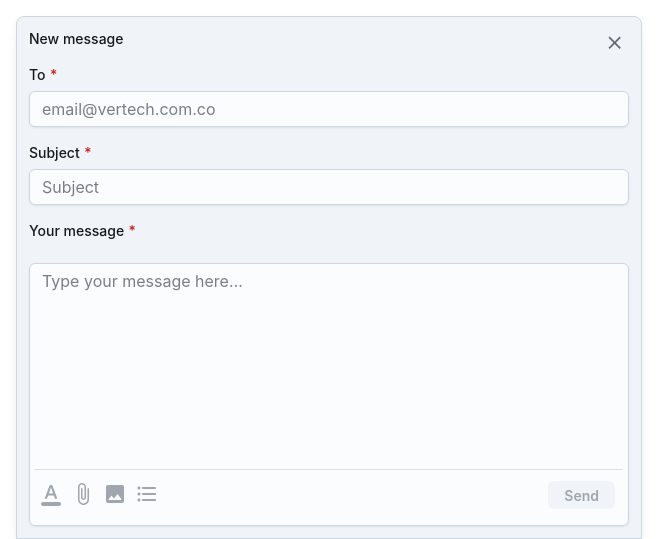
Scenario: WriteEmail Component › should enable send button when form is filled
In the field with placeholder "email@vertech.com.co": point(329, 109) [42,92,616,126], type "test@example.com"
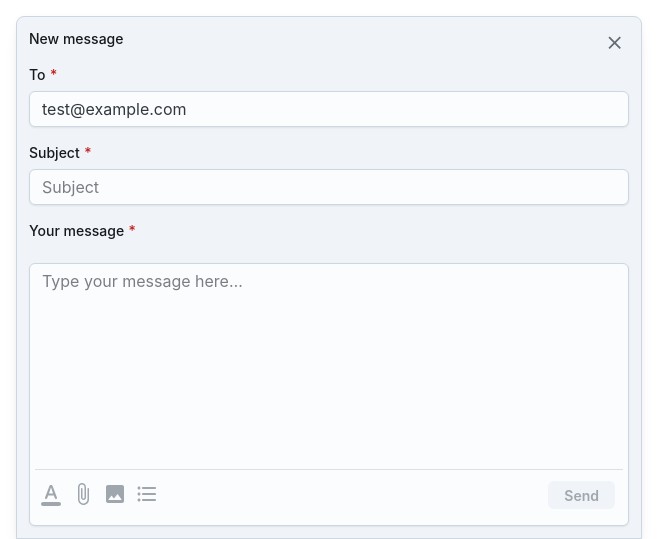
In the field with placeholder "Subject": point(329, 187) [42,170,616,204], type "Test Subject"
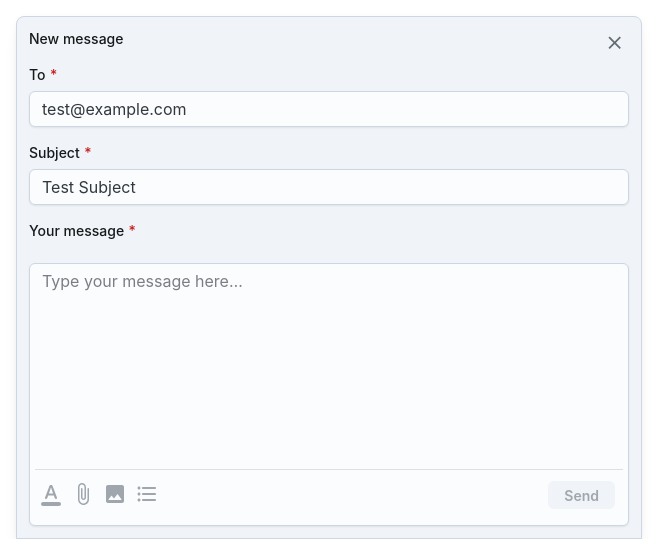
In the text box with placeholder "Type your message here…": point(335, 365) [42,269,628,461], type "Test Message"
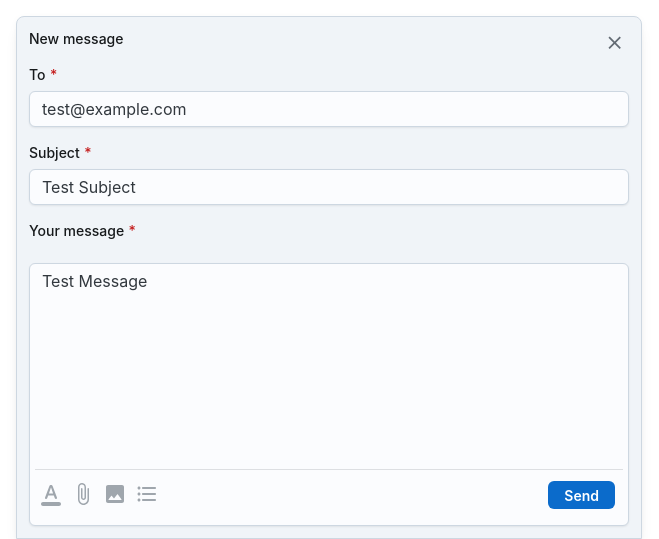
Check: the button "Send" is enabled, box [548,481,615,509]
